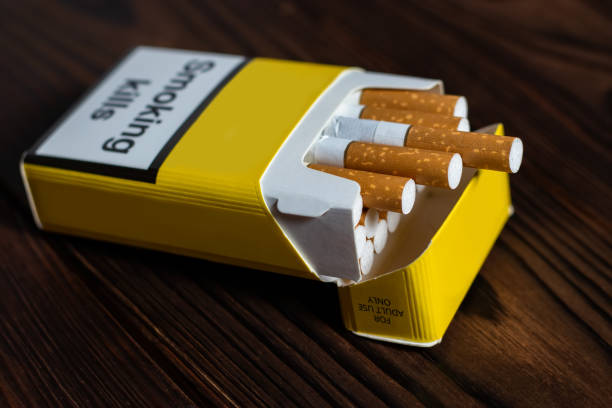cigarette: (15, 43, 515, 353), (323, 116, 525, 175), (310, 136, 464, 190), (303, 163, 417, 215), (335, 105, 472, 133), (346, 91, 470, 116), (371, 218, 389, 255), (359, 207, 380, 238), (358, 239, 374, 276), (378, 209, 402, 232), (354, 223, 367, 258)
